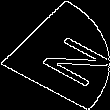N_NW: (10, 24, 100, 86)
